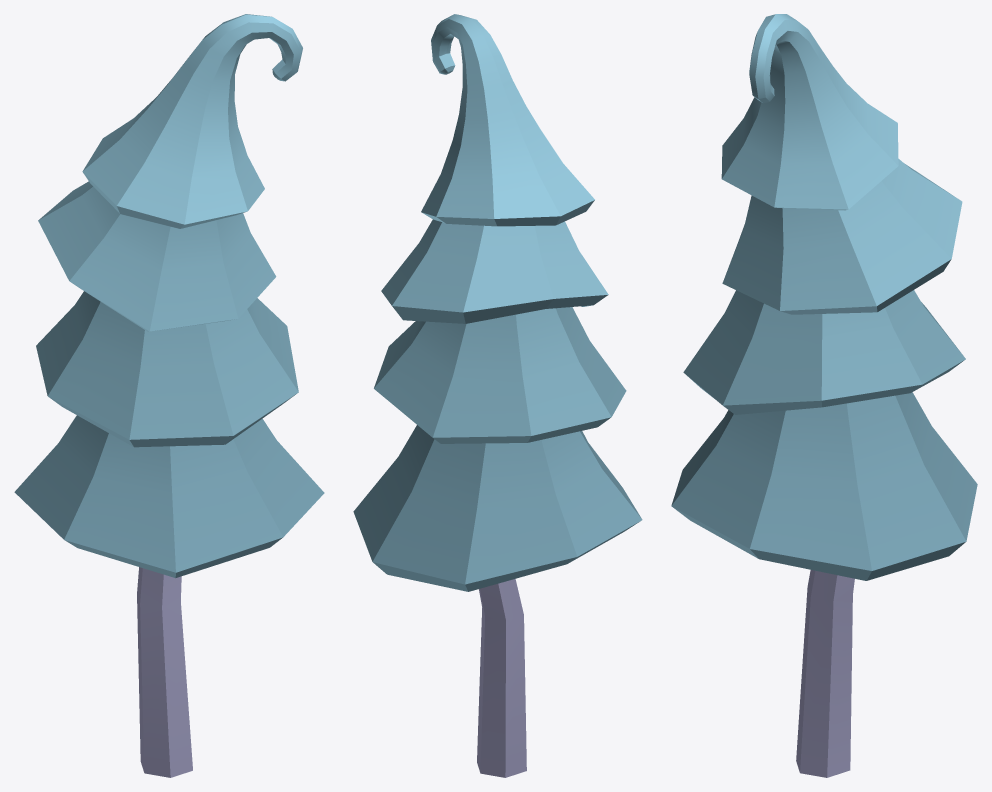
Rendered from Trees_Mystic_02.fbx.
3 views of the same model, side by side, from view 1: azimuth 30°, elevation 25°; view 2: azimuth 150°, elevation 25°; view 3: azimuth 270°, elevation 25° (orthographic). The views are drawn at different scales.
Visible parts, largest first — view 1: Cathy2_Namu; view 2: Cathy2_Namu; view 3: Cathy2_Namu.
Boxes of the visible parts, box(x1,y1,x2,y2) form: Cathy2_Namu: box(14, 14, 324, 777); Cathy2_Namu: box(353, 14, 642, 777); Cathy2_Namu: box(671, 14, 977, 777).
Bounding box in the file's own units: 388 × 1086 × 387.
